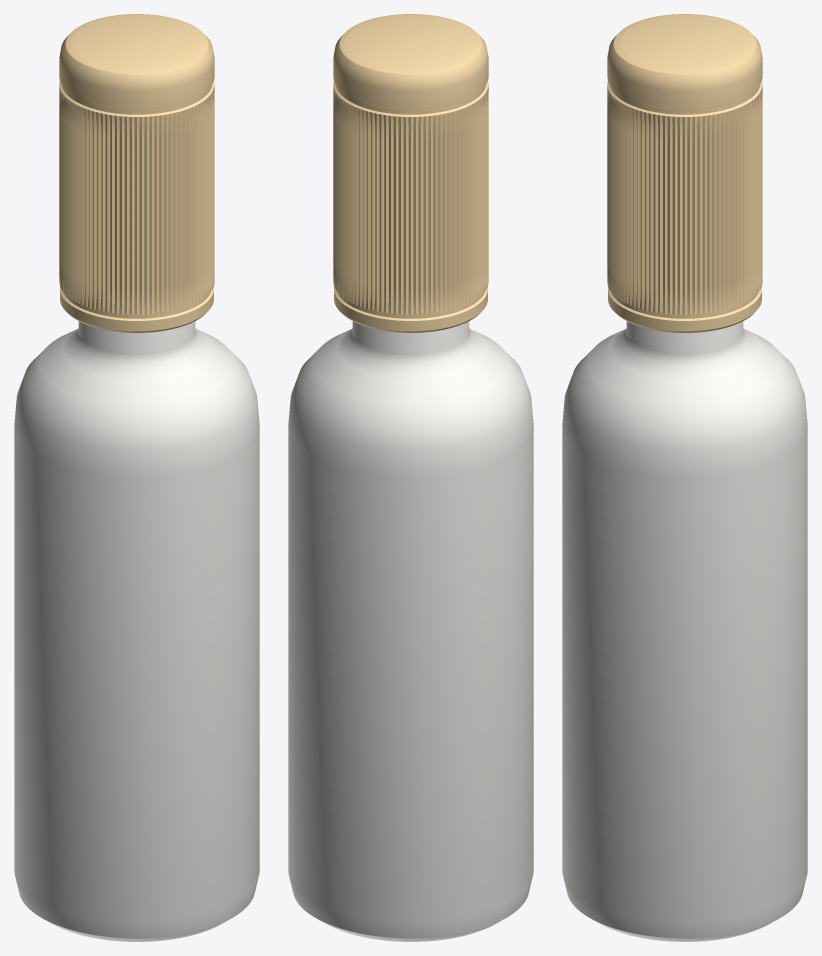
Rendered from rollon.glb.
The picture shows the model from 3 angles, left to right: view 1: azimuth 30°, elevation 25°; view 2: azimuth 150°, elevation 25°; view 3: azimuth 270°, elevation 25°; orthographic projection.
Parts seen in each view (by area): view 1: Glass, Cap; view 2: Glass, Cap; view 3: Glass, Cap.
Part boxes in pixels (bbox=[...]): Glass: bbox=[14, 321, 259, 941]; Cap: bbox=[59, 14, 214, 332]; Glass: bbox=[288, 321, 533, 941]; Cap: bbox=[333, 14, 488, 332]; Glass: bbox=[562, 321, 807, 941]; Cap: bbox=[607, 14, 762, 332].
Size of the model in its own units: 0.86 by 3.33 by 0.86.
